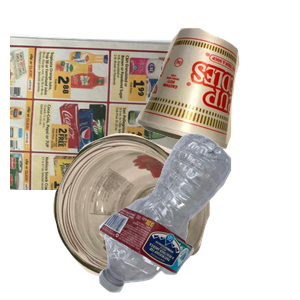glass: (50, 131, 252, 300)
paper: (10, 31, 214, 211)
plastic: (96, 131, 300, 300)
trash: (133, 25, 300, 167)
